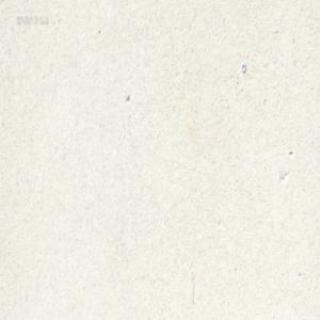Washertrack_idkeyframe: (240, 62, 247, 74)
